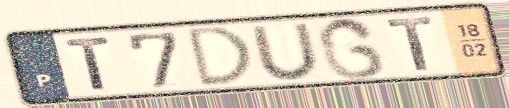7: (124, 29, 181, 90)
D: (185, 24, 257, 90)
G: (315, 15, 389, 82)
T: (383, 15, 436, 73), (62, 35, 114, 93)
U: (247, 21, 325, 82)
